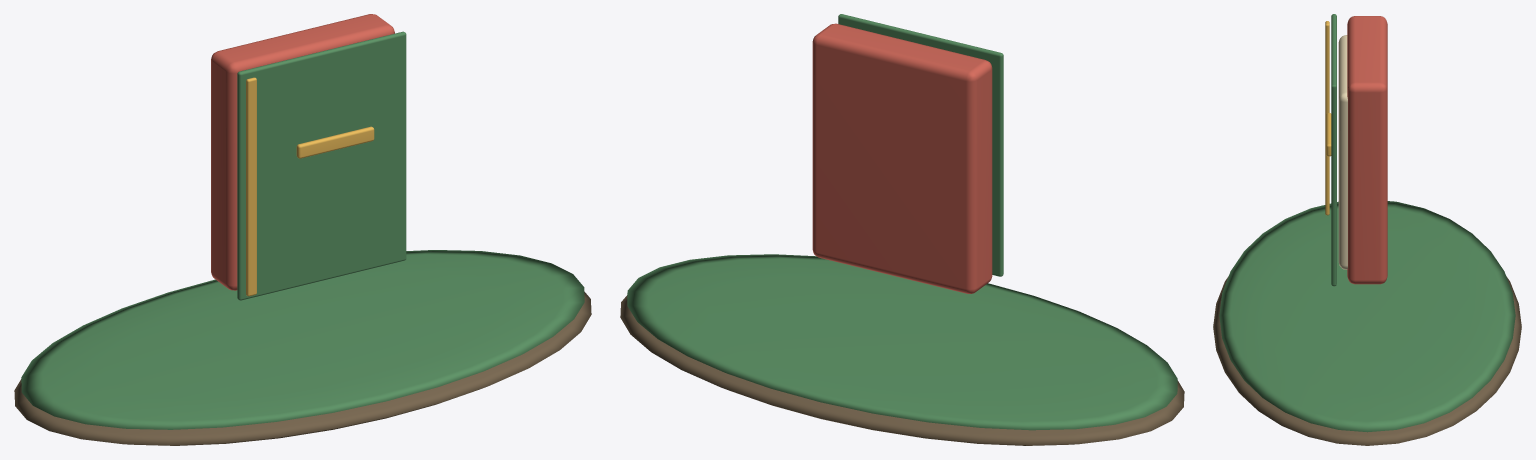
The model's file is book.glb.
The picture shows the model from 3 angles, left to right: view 1: azimuth 30°, elevation 25°; view 2: azimuth 150°, elevation 25°; view 3: azimuth 270°, elevation 25°; orthographic projection. The views are drawn at different scales.
Visible parts, largest first — view 1: book_surface_01, book_surface_02, book_surface_00, book_surface_04; view 2: book_surface_01, book_surface_02, book_surface_00; view 3: book_surface_01, book_surface_02, book_surface_00, book_surface_03, book_surface_04.
Boxes of the visible parts, left/top/right/bottom form: book_surface_01: left=21, top=31, right=584, bottom=429; book_surface_02: left=211, top=14, right=394, bottom=290; book_surface_00: left=14, top=291, right=591, bottom=445; book_surface_04: left=246, top=77, right=374, bottom=296; book_surface_01: left=627, top=14, right=1177, bottom=430; book_surface_02: left=812, top=23, right=992, bottom=293; book_surface_00: left=620, top=295, right=1184, bottom=445; book_surface_01: left=1219, top=14, right=1515, bottom=432; book_surface_02: left=1347, top=16, right=1387, bottom=284; book_surface_00: left=1213, top=276, right=1521, bottom=445; book_surface_03: left=1338, top=35, right=1347, bottom=269; book_surface_04: left=1325, top=21, right=1331, bottom=215.
Size of the model in its own units: 4.56 by 2.61 by 2.5.
